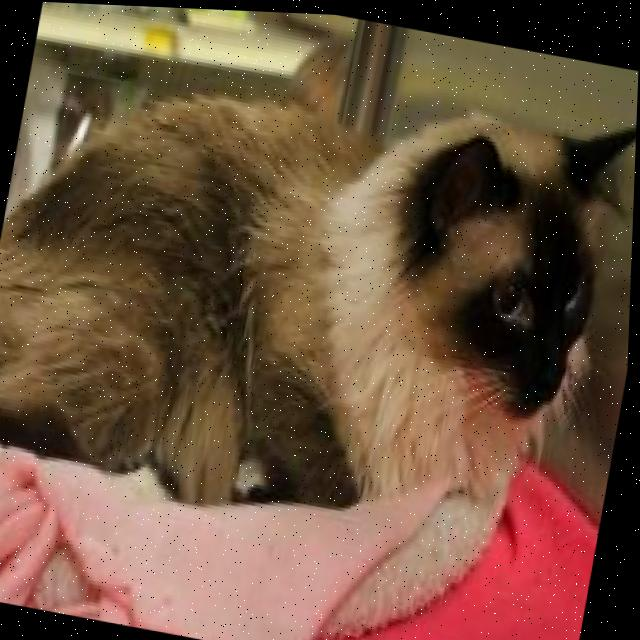Birman: (0, 4, 640, 578)
